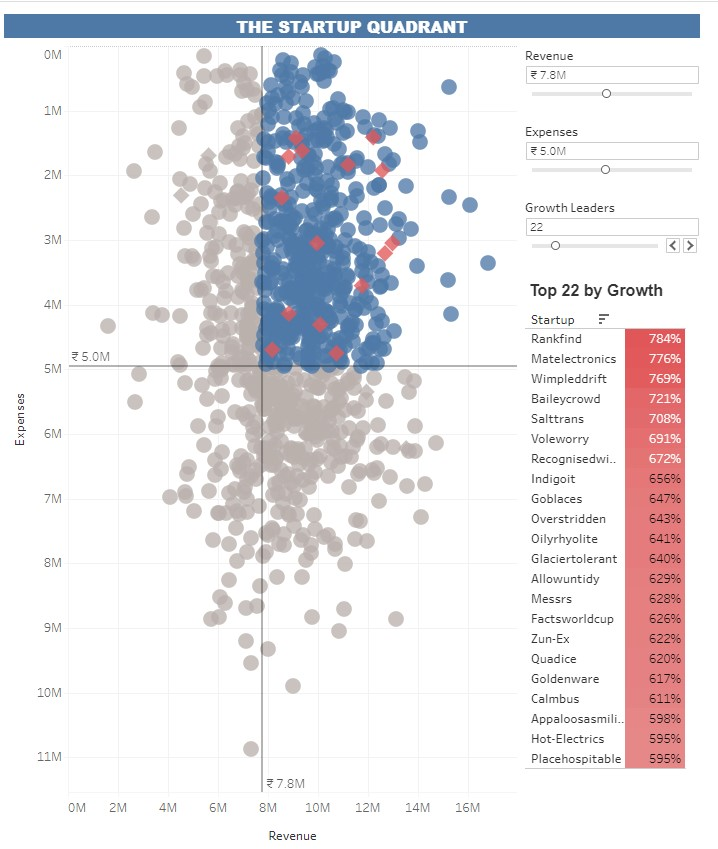

What the dashboard file says about the page in this screenshot:
{"tool":"tableau","page":{"name":"Dashboard 1","canvas":[1000,1000],"units":"permille","ordinal":0},"visuals":[{"type":"text","box":[11.1,9.3,977.8,37.2]},{"type":"worksheet","title":"Scatter Plot","mark":"Shape","rows":["2015 Expenses (Financials1)"],"cols":["2015 Revenue (Financials1)"],"box":[11.1,46.5,723.6,944.2]},{"type":"parameter","param":"[Parameters].[Parameter 1]","box":[734.7,46.5,254.2,87.2]},{"type":"parameter","param":"[Parameters].[Parameter 2]","box":[734.7,133.7,254.2,87.2]},{"type":"parameter","param":"[Parameters].[Top 10 growth dynamic set Parameter]","box":[734.7,220.9,254.2,87.2]},{"type":"worksheet","title":"Growth","mark":"Square","rows":["Name"],"box":[734.7,308.1,254.2,583.7]}]}

Visuals, with their boxes on the dashboard's canvas, which has no fixed pixel size, in thousandths of its width and height (x1, y1, x2, y2). These are canvas units, not pixel positions in the 718x849 screenshot, which may show the page scaled, cropped or inside an application window:
text: x1=11 y1=9 x2=989 y2=46
"Scatter Plot" worksheet (Shape marks): x1=11 y1=46 x2=735 y2=991
parameter: x1=735 y1=46 x2=989 y2=134
parameter: x1=735 y1=134 x2=989 y2=221
parameter: x1=735 y1=221 x2=989 y2=308
"Growth" worksheet (Square marks): x1=735 y1=308 x2=989 y2=892
